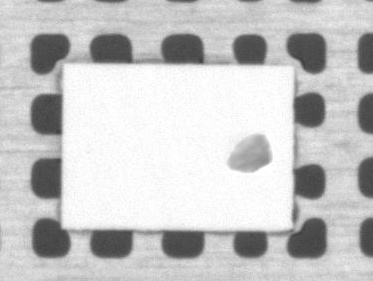DIE_INK: (291, 96, 370, 133)
